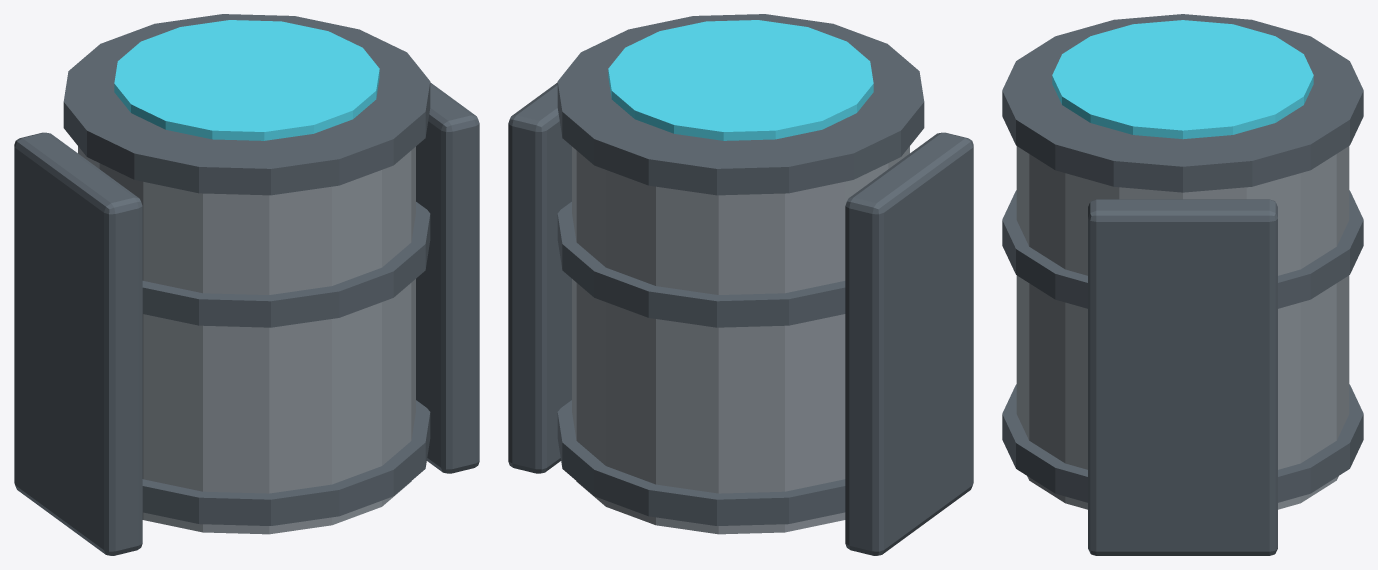
The model's file is 1_Feature.fbx.
3 views of the same model, side by side, from view 1: azimuth 30°, elevation 25°; view 2: azimuth 150°, elevation 25°; view 3: azimuth 270°, elevation 25° (orthographic). The views are drawn at different scales.
Parts seen in each view (by area): view 1: Body; view 2: Body; view 3: Body.
Part boxes in pixels (x1,y1,x2,y2): Body: (14, 14, 479, 555); Body: (508, 14, 973, 555); Body: (1002, 14, 1363, 555).
Size of the model in its own units: 1.78 by 1.83 by 1.52.
